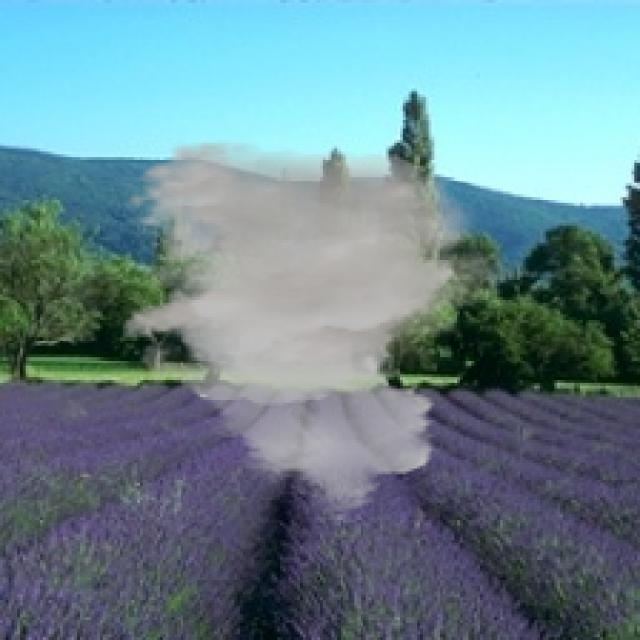Smoke: (120, 140, 520, 523)
